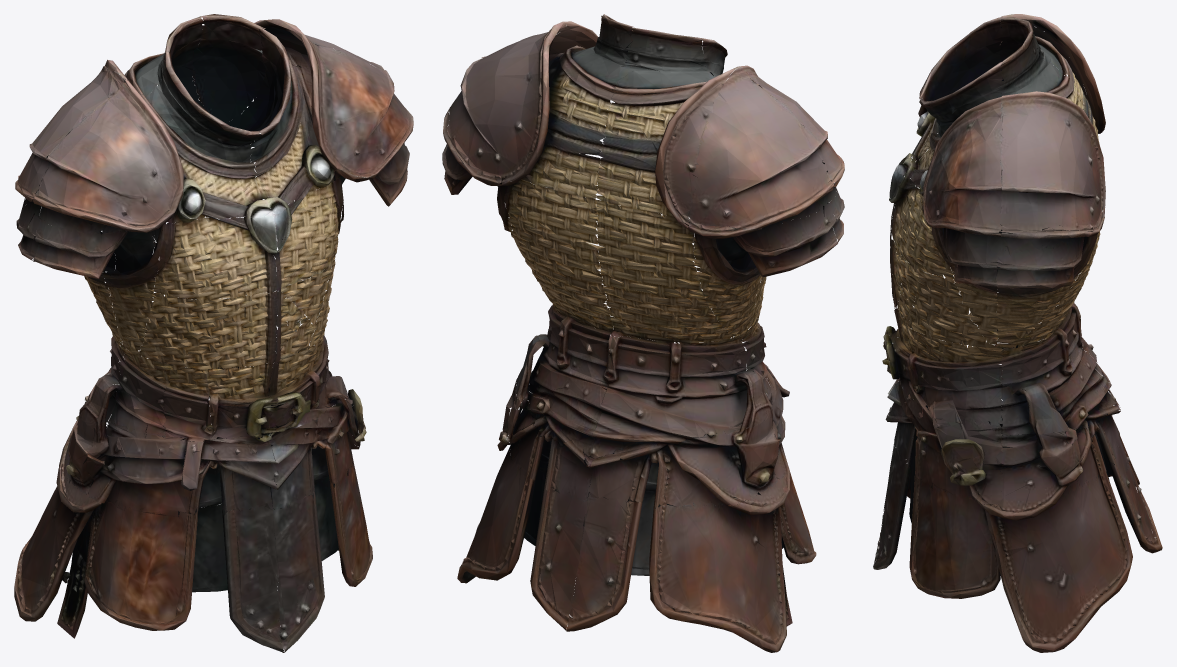
File: a_reed_cuirass.glb
3 renders of one model, left to right at view 1: azimuth 30°, elevation 25°; view 2: azimuth 150°, elevation 25°; view 3: azimuth 270°, elevation 25°, orthographic. The views are drawn at different scales.
Parts seen in each view (by area): view 1: geometry_0; view 2: geometry_0; view 3: geometry_0.
Boxes of the visible parts, left/top/right/bottom form: geometry_0: left=14, top=14, right=413, bottom=652; geometry_0: left=442, top=14, right=844, bottom=652; geometry_0: left=873, top=14, right=1162, bottom=652.
Bounding box in the file's own units: 0.3677 × 0.55 × 0.2625.
1 material, 1 textured.
